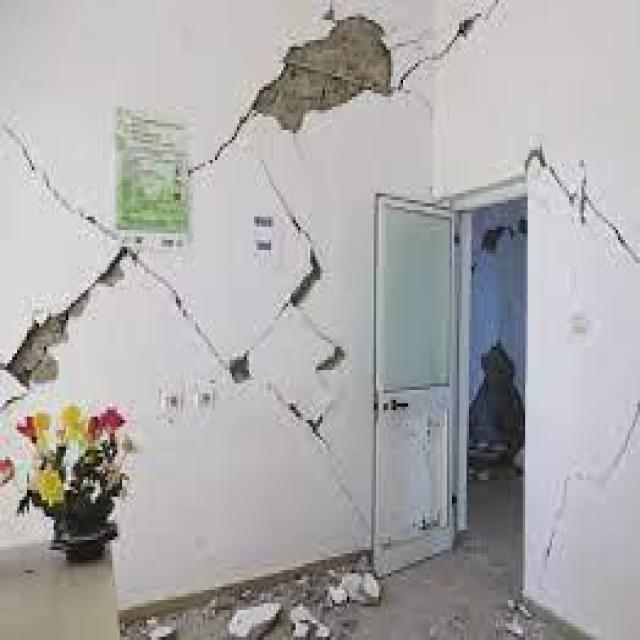damage: (98, 540, 418, 640), (227, 0, 410, 168), (500, 136, 640, 284), (0, 264, 139, 411), (5, 107, 130, 257), (252, 180, 348, 364), (134, 230, 230, 378), (457, 323, 534, 470), (246, 373, 348, 480), (528, 460, 599, 611), (384, 7, 512, 78), (322, 473, 388, 557), (601, 380, 640, 500), (471, 213, 534, 264)
